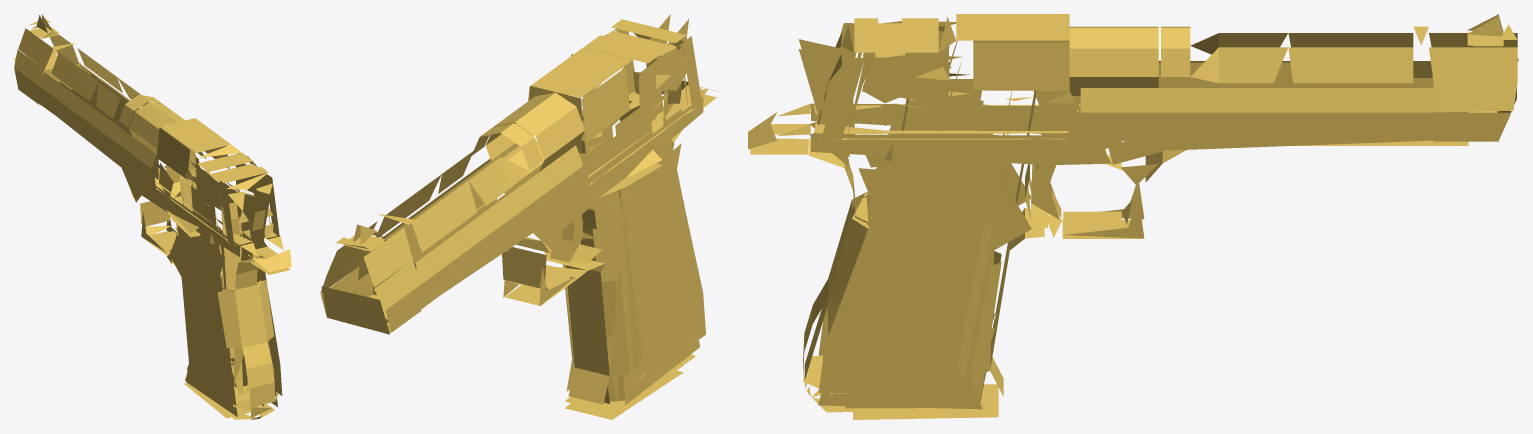
Rendered from charm_mst_pistol_3.glb.
3 renders of one model, left to right at view 1: azimuth 30°, elevation 25°; view 2: azimuth 150°, elevation 25°; view 3: azimuth 270°, elevation 25°, orthographic. The views are drawn at different scales.
Parts seen in each view (by area): view 1: p0_paint; view 2: p0_paint; view 3: p0_paint.
Boxes of the visible parts, x1,y1,x2,y2 form: p0_paint: (14,14,291,419); p0_paint: (320,14,717,419); p0_paint: (748,14,1518,419).
Bounding box in the file's own units: 0.0403 × 0.1508 × 0.2705.
